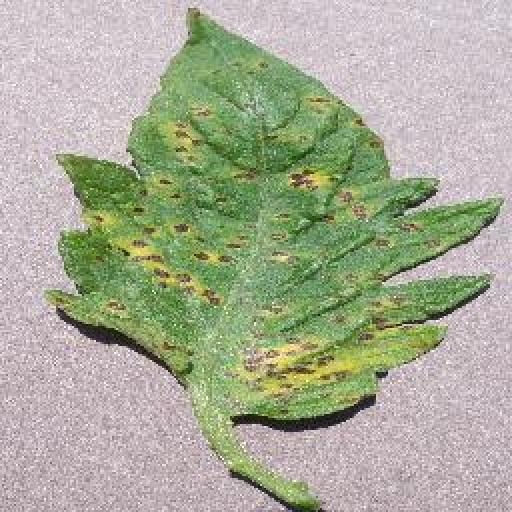disease_tomato: (46, 5, 505, 420)
